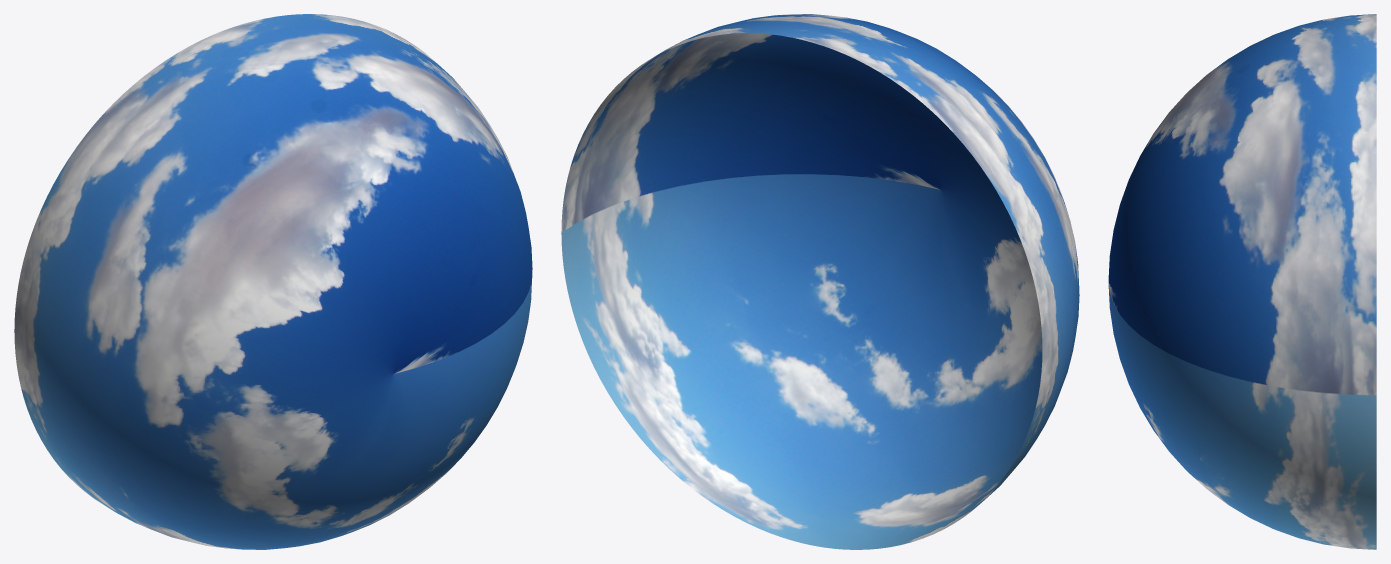
The model's file is dome.fbx.
The picture shows the model from 3 angles, left to right: view 1: azimuth 30°, elevation 25°; view 2: azimuth 150°, elevation 25°; view 3: azimuth 270°, elevation 25°; orthographic projection. The views are drawn at different scales.
Visible parts, largest first — view 1: Object_1; view 2: Object_1; view 3: Object_1.
Part boxes in pixels (box(x1,y1,x2,y2)): Object_1: box(14, 14, 532, 549); Object_1: box(561, 14, 1079, 549); Object_1: box(1108, 14, 1376, 549).
Bounding box in the file's own units: 142 × 142 × 71.
